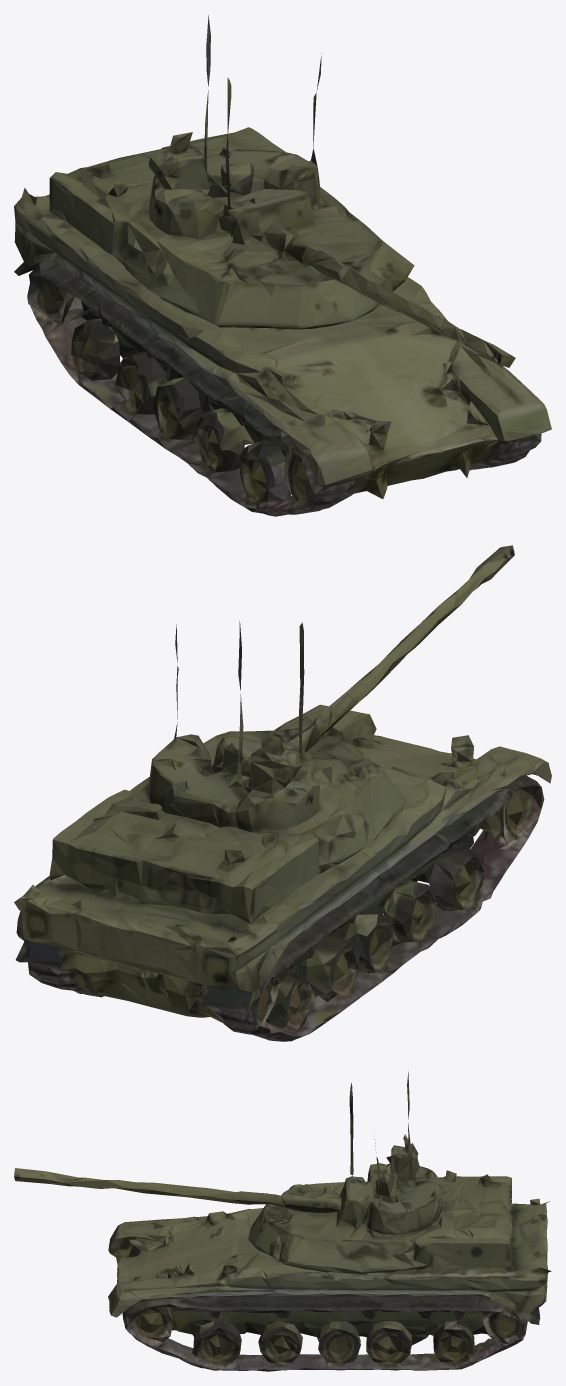
Rendered from veh_bmp3.glb.
3 views of the same model, one above another, from view 1: azimuth 30°, elevation 25°; view 2: azimuth 150°, elevation 25°; view 3: azimuth 270°, elevation 25° (orthographic). The views are drawn at different scales.
Parts seen in each view (by area): view 1: veh_bmp3_tex; view 2: veh_bmp3_tex; view 3: veh_bmp3_tex.
Part boxes in pixels (<box>): veh_bmp3_tex: <box>14,15,551,516</box>; veh_bmp3_tex: <box>14,545,551,1041</box>; veh_bmp3_tex: <box>14,1071,551,1371</box>.
Size of the model in its own units: 2.48 by 3.8 by 7.1.
1 material, 1 textured.
